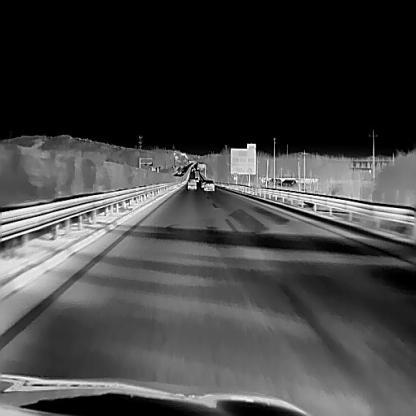car: (203, 178, 214, 190), (186, 177, 196, 189)
